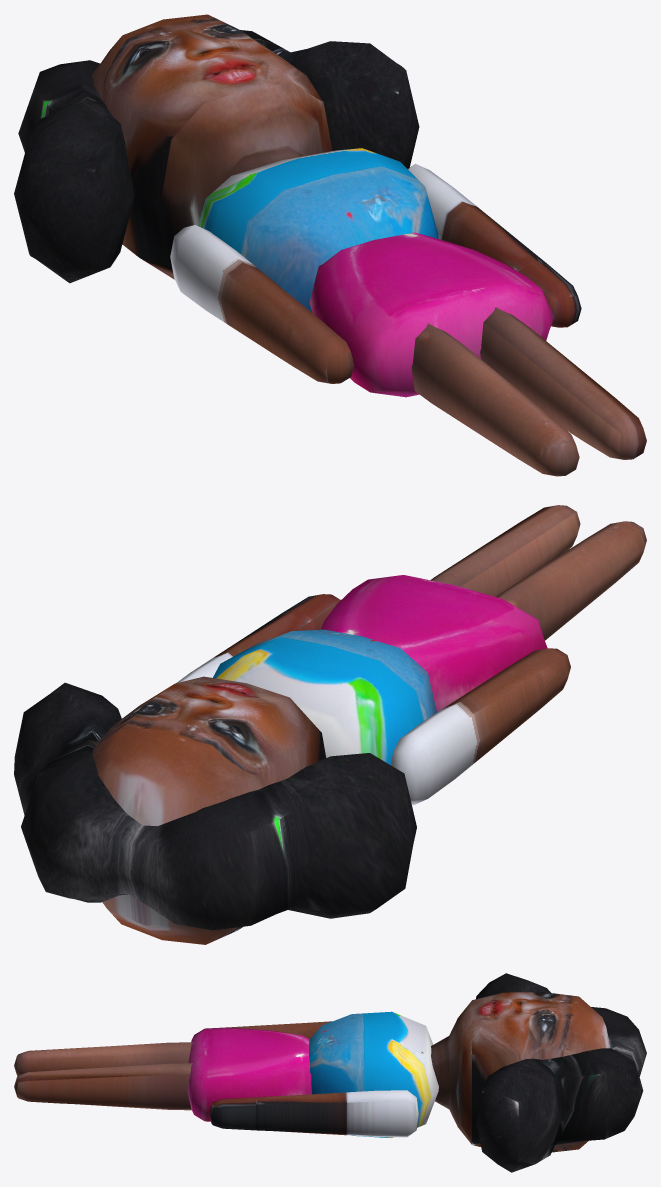
File: SM_Doll00.fbx
The picture shows the model from 3 angles, top to bottom: view 1: azimuth 30°, elevation 25°; view 2: azimuth 150°, elevation 25°; view 3: azimuth 270°, elevation 25°; orthographic projection. The views are drawn at different scales.
Parts seen in each view (by area): view 1: SM_Doll00; view 2: SM_Doll00; view 3: SM_Doll00.
Part boxes in pixels (bbox=[...]): SM_Doll00: bbox=[14, 14, 646, 476]; SM_Doll00: bbox=[14, 505, 646, 944]; SM_Doll00: bbox=[14, 973, 646, 1172].
Size of the model in its own units: 14.8 by 7.68 by 32.03.
